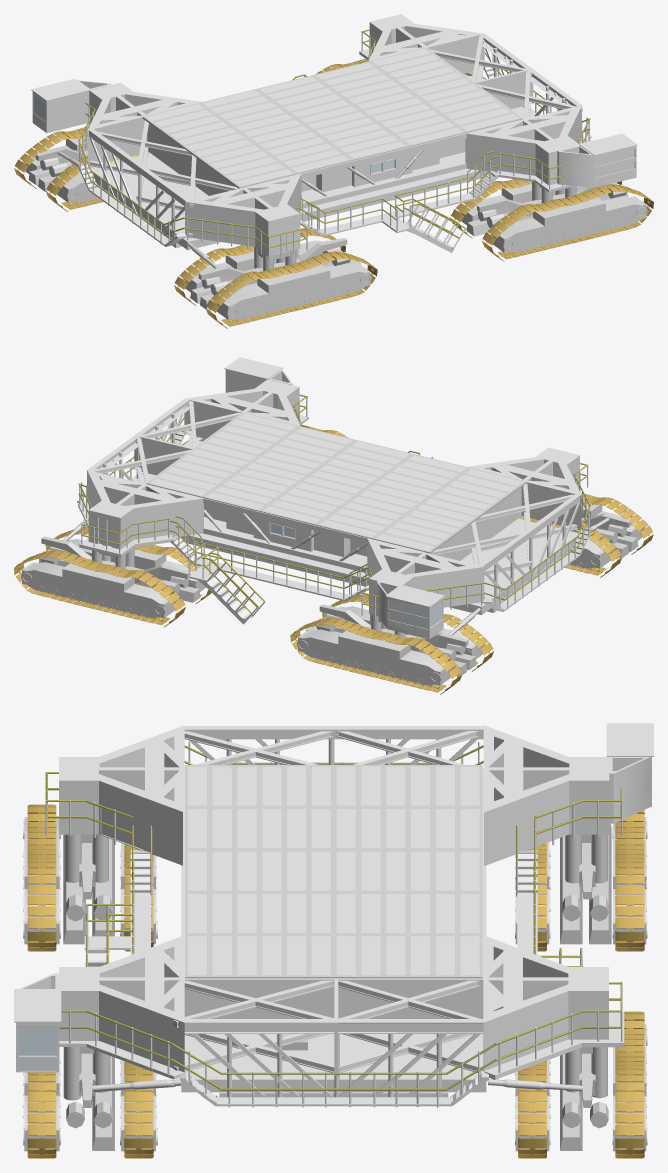
The model's file is Crawler.glb.
The picture shows the model from 3 angles, top to bottom: view 1: azimuth 30°, elevation 25°; view 2: azimuth 150°, elevation 25°; view 3: azimuth 270°, elevation 25°; orthographic projection. The views are drawn at different scales.
Parts seen in each view (by area): view 1: polySurface1; view 2: polySurface1; view 3: polySurface1.
Part boxes in pixels (x1=…): polySurface1: x1=14, y1=14, x2=653, y2=328; polySurface1: x1=14, y1=357, x2=653, y2=694; polySurface1: x1=14, y1=723, x2=653, y2=1158.
Size of the model in its own units: 8.77 by 1.7 by 7.2.
Materials: 2 (2 with a texture image).
